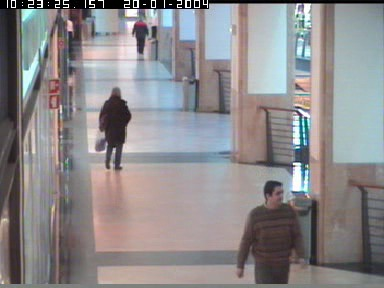person: (234, 181, 306, 283), (95, 86, 131, 169), (132, 16, 148, 56), (66, 15, 76, 54), (148, 9, 159, 39)
